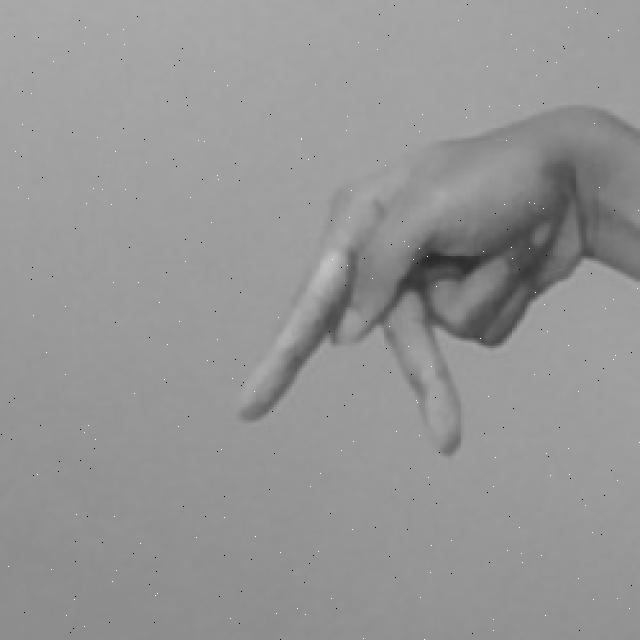P: (230, 92, 640, 461)
